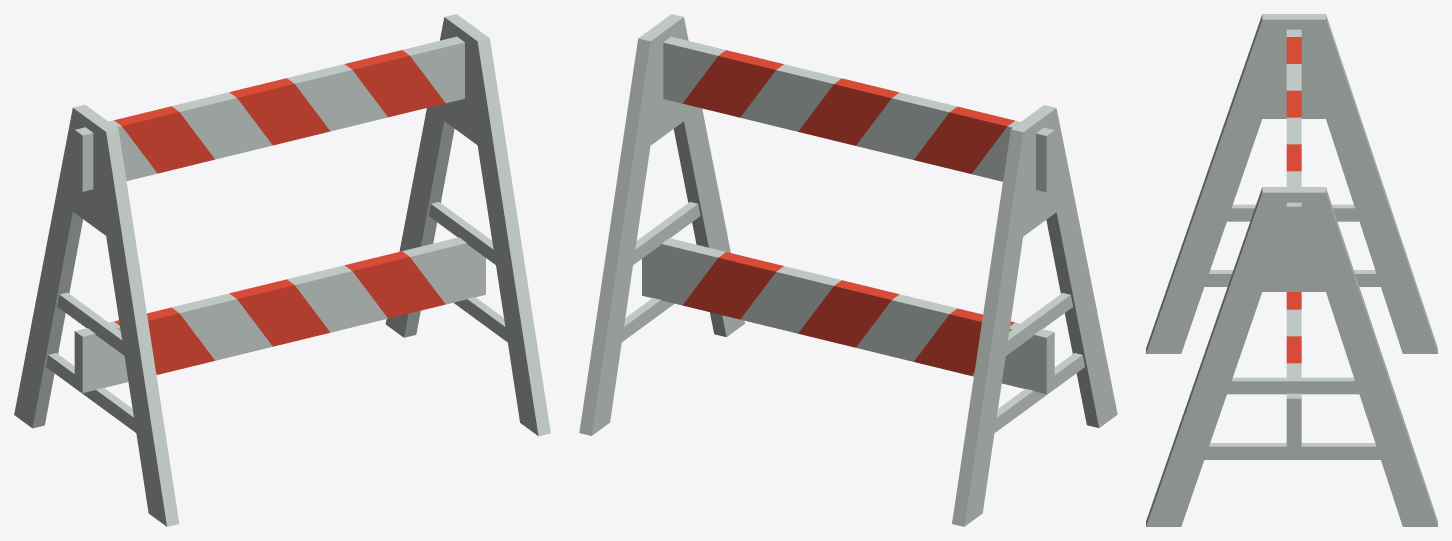
The model's file is SM_Barrier_05.fbx.
3 views of the same model, side by side, from view 1: azimuth 30°, elevation 25°; view 2: azimuth 150°, elevation 25°; view 3: azimuth 270°, elevation 25° (orthographic). The views are drawn at different scales.
Visible parts, largest first — view 1: SM_Barrier_05; view 2: SM_Barrier_05; view 3: SM_Barrier_05.
Boxes of the visible parts, x1,y1,x2,y2 form: SM_Barrier_05: (14,14,550,526); SM_Barrier_05: (579,14,1117,526); SM_Barrier_05: (1146,14,1437,526).
Bounding box in the file's own units: 142 × 118 × 93.22.
